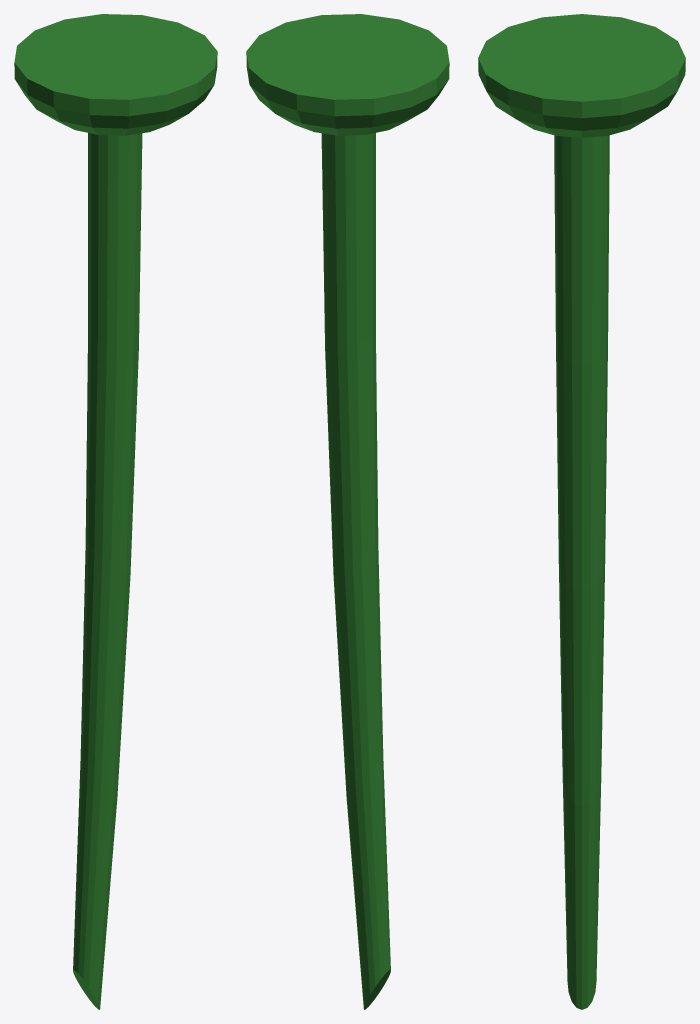
Rendered from bottom.obj.
The picture shows the model from 3 angles, left to right: view 1: azimuth 30°, elevation 25°; view 2: azimuth 150°, elevation 25°; view 3: azimuth 270°, elevation 25°; orthographic projection.
Visible parts, largest first — view 1: Cylinder02, Cylinder01; view 2: Cylinder02, Cylinder01; view 3: Cylinder02, Cylinder01.
Boxes of the visible parts, x1=… form: Cylinder02: x1=73, y1=133, x2=142, y2=1009; Cylinder01: x1=14, y1=14, x2=217, y2=135; Cylinder02: x1=321, y1=133, x2=390, y2=1009; Cylinder01: x1=246, y1=14, x2=449, y2=135; Cylinder02: x1=554, y1=135, x2=609, y2=1009; Cylinder01: x1=478, y1=14, x2=685, y2=137.
Size of the model in its own units: 3.89 by 19.87 by 3.89.
